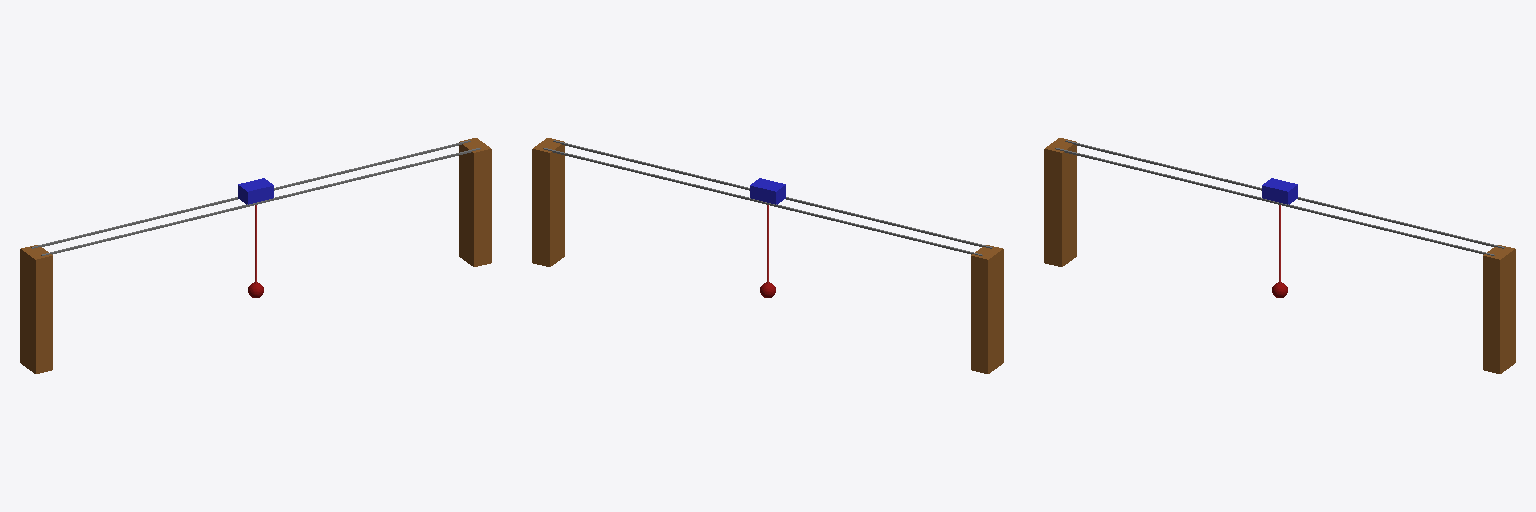
robot.urdf — cart_pendulum_2dof:
<?xml version="1.0"?>
<robot name="cart_pendulum_2dof">
  
  <!-- ============================================ -->
  <!-- WORLD/BASE LINK (Fixed reference frame)      -->
  <!-- ============================================ -->
  <link name="world"/>
  
  <!-- ============================================ -->
  <!-- RAILS (Fixed beams along X-axis)             -->
  <!-- ============================================ -->
  <!-- Rear rail aligned with back edge of cart -->
  <joint name="rail_rear_joint" type="fixed">
    <parent link="world"/>
    <child link="rail_rear"/>
    <origin xyz="0 -0.1 1.25" rpy="0 0 0"/>  <!-- On top of support boxes -->
  </joint>
  
  <link name="rail_rear">
    <visual>
      <geometry>
        <box size="5.0 0.02 0.02"/>  <!-- Thin beam along X-axis -->
      </geometry>
      <material name="gray">
        <color rgba="0.5 0.5 0.5 1"/>
      </material>
    </visual>
    <collision>
      <geometry>
        <box size="5.0 0.02 0.02"/>
      </geometry>
    </collision>
    <inertial>
      <mass value="50.0"/>  <!-- Heavy rail, won't move -->
      <origin xyz="0 0 0" rpy="0 0 0"/>
      <inertia ixx="0.02" ixy="0" ixz="0" iyy="20.0" iyz="0" izz="20.0"/>
    </inertial>
  </link>
  
  <!-- Front rail aligned with front edge of cart -->
  <joint name="rail_front_joint" type="fixed">
    <parent link="world"/>
    <child link="rail_front"/>
    <origin xyz="0 0.1 1.25" rpy="0 0 0"/>  <!-- On top of support boxes -->
  </joint>
  
  <link name="rail_front">
    <visual>
      <geometry>
        <box size="5.0 0.02 0.02"/>  <!-- Thin beam along X-axis -->
      </geometry>
      <material name="gray">
        <color rgba="0.5 0.5 0.5 1"/>
      </material>
    </visual>
    <collision>
      <geometry>
        <box size="5.0 0.02 0.02"/>
      </geometry>
    </collision>
    <inertial>
      <mass value="50.0"/>  <!-- Heavy rail, won't move -->
      <origin xyz="0 0 0" rpy="0 0 0"/>
      <inertia ixx="0.02" ixy="0" ixz="0" iyy="20.0" iyz="0" izz="20.0"/>
    </inertial>
  </link>
  
  <!-- ============================================ -->
  <!-- SUPPORT BOXES (Support rail ends)            -->
  <!-- ============================================ -->
  <!-- Left support box -->
  <joint name="support_left_joint" type="fixed">
    <parent link="world"/>
    <child link="support_left"/>
    <origin xyz="-2.5 0 0" rpy="0 0 0"/>  <!-- Bottom on ground -->
  </joint>
  
  <link name="support_left">
    <visual>
      <origin xyz="0 0 0.625" rpy="0 0 0"/>  <!-- Shift geometry up by half height -->
      <geometry>
        <box size="0.2 0.3 1.25"/>  <!-- Height 1.25m to reach rails -->
      </geometry>
      <material name="brown">
        <color rgba="0.6 0.4 0.2 1"/>
      </material>
    </visual>
    <collision>
      <origin xyz="0 0 0.625" rpy="0 0 0"/>  <!-- Shift geometry up by half height -->
      <geometry>
        <box size="0.2 0.3 1.25"/>
      </geometry>
    </collision>
    <inertial>
      <mass value="100.0"/>  <!-- Very heavy, won't move -->
      <origin xyz="0 0 0.625" rpy="0 0 0"/>  <!-- Center of mass at geometric center -->
      <inertia ixx="5.0" ixy="0" ixz="0" iyy="5.0" iyz="0" izz="0.5"/>
    </inertial>
  </link>
  
  <!-- Right support box -->
  <joint name="support_right_joint" type="fixed">
    <parent link="world"/>
    <child link="support_right"/>
    <origin xyz="2.5 0 0" rpy="0 0 0"/>  <!-- Bottom on ground -->
  </joint>
  
  <link name="support_right">
    <visual>
      <origin xyz="0 0 0.625" rpy="0 0 0"/>  <!-- Shift geometry up by half height -->
      <geometry>
        <box size="0.2 0.3 1.25"/>  <!-- Height 1.25m to reach rails -->
      </geometry>
      <material name="brown">
        <color rgba="0.6 0.4 0.2 1"/>
      </material>
    </visual>
    <collision>
      <origin xyz="0 0 0.625" rpy="0 0 0"/>  <!-- Shift geometry up by half height -->
      <geometry>
        <box size="0.2 0.3 1.25"/>
      </geometry>
    </collision>
    <inertial>
      <mass value="100.0"/>  <!-- Very heavy, won't move -->
      <origin xyz="0 0 0.625" rpy="0 0 0"/>  <!-- Center of mass at geometric center -->
      <inertia ixx="5.0" ixy="0" ixz="0" iyy="5.0" iyz="0" izz="0.5"/>
    </inertial>
  </link>
  
  <!-- ============================================ -->
  <!-- CART (Slides along X-axis on rails)          -->
  <!-- ============================================ -->
  <joint name="cart_slider" type="prismatic">
    <parent link="world"/>
    <child link="cart"/>
    <origin xyz="0 0 1.325" rpy="0 0 0"/>  <!-- On rails -->
    <axis xyz="1 0 0"/>  <!-- Slides along X-axis -->
    <limit lower="-2.0" upper="2.0" effort="100" velocity="10.0"/>
    <dynamics damping="0.5" friction="0.1"/>
  </joint>
  
  <link name="cart">
    <visual>
      <geometry>
        <box size="0.3 0.2 0.15"/>
      </geometry>
      <material name="blue">
        <color rgba="0.2 0.2 0.8 1"/>
      </material>
    </visual>
    <collision>
      <geometry>
        <box size="0.3 0.2 0.15"/>
      </geometry>
    </collision>
    <inertial>
      <mass value="5.0"/>
      <origin xyz="0 0 0" rpy="0 0 0"/>
      <inertia ixx="0.05" ixy="0" ixz="0" iyy="0.08" iyz="0" izz="0.06"/>
    </inertial>
  </link>
  
  <!-- ============================================ -->
  <!-- PENDULUM (Rotates in XZ plane, around Y)     -->
  <!-- ============================================ -->
  <joint name="pendulum_joint" type="continuous">
    <parent link="cart"/>
    <child link="pendulum"/>
    <origin xyz="0 0 -0.075" rpy="0 0 0"/>  <!-- Pivot at bottom of cart -->
    <axis xyz="0 1 0"/>  <!-- Rotates around Y-axis (XZ plane motion) -->
    <dynamics damping="0.5" friction="0.01"/>
  </joint>
  
  <!-- Massless rod connecting to point mass -->
  <link name="pendulum">
    <visual>
      <origin xyz="0 0 -0.5" rpy="0 0 0"/>
      <geometry>
        <cylinder radius="0.01" length="1.0"/>  <!-- Thin rod, 1m length -->
      </geometry>
      <material name="red">
        <color rgba="0.8 0.2 0.2 1"/>
      </material>
    </visual>
    <collision>
      <origin xyz="0 0 -0.5" rpy="0 0 0"/>
      <geometry>
        <cylinder radius="0.01" length="1.0"/>
      </geometry>
    </collision>
    <inertial>
      <mass value="0.01"/>  <!-- Nearly massless rod -->
      <origin xyz="0 0 -0.5" rpy="0 0 0"/>
      <inertia ixx="0.0001" ixy="0" ixz="0" iyy="0.0001" iyz="0" izz="0.00001"/>
    </inertial>
  </link>
  
  <!-- Point mass at tip -->
  <joint name="pendulum_mass_joint" type="fixed">
    <parent link="pendulum"/>
    <child link="pendulum_mass"/>
    <origin xyz="0 0 -1.0" rpy="0 0 0"/>
  </joint>
  
  <link name="pendulum_mass">
    <visual>
      <geometry>
        <sphere radius="0.08"/>  <!-- Larger sphere for point mass -->
      </geometry>
      <material name="dark_red">
        <color rgba="0.6 0.1 0.1 1"/>
      </material>
    </visual>
    <collision>
      <geometry>
        <sphere radius="0.08"/>
      </geometry>
    </collision>
    <inertial>
      <mass value="1.0"/>  <!-- All mass concentrated here -->
      <origin xyz="0 0 0" rpy="0 0 0"/>
      <inertia ixx="0.002" ixy="0" ixz="0" iyy="0.002" iyz="0" izz="0.002"/>
    </inertial>
  </link>
  
  
</robot>

--- What the picture shows (computed from the rendered views, not written in the file) ---
The picture shows the robot from 3 angles, left to right: view 1: azimuth 30°, elevation 25°; view 2: azimuth 150°, elevation 25°; view 3: azimuth 330°, elevation 25°; orthographic projection.
Robot: cart_pendulum_2dof — 8 links, 7 joints (1 continuous, 1 prismatic, 5 fixed); root link world; default pose: every joint at zero.
Visible links, largest first — view 1: support_left, support_right, rail_rear, rail_front, cart; view 2: support_left, support_right, rail_front, rail_rear, cart; view 3: support_right, support_left, rail_rear, rail_front, cart.
Link boxes in pixels (x1,y1,x2,y2): support_left: (20,245,52,373); support_right: (459,138,491,266); rail_rear: (41,148,480,255); rail_front: (31,140,470,248); cart: (238,178,273,204); support_left: (971,245,1003,373); support_right: (532,138,564,266); rail_front: (543,148,982,255); rail_rear: (553,140,992,248); cart: (750,178,785,204); support_right: (1483,245,1515,373); support_left: (1044,138,1076,266); rail_rear: (1055,148,1494,255); rail_front: (1065,140,1504,248); cart: (1262,178,1297,204).
Bounding box of the posed robot: 5.2 × 0.3 × 1.4 m (x, y, z).
Geometry: primitives only (box / cylinder / sphere), no mesh files.